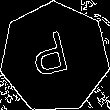P_S: (31, 29, 78, 86)
